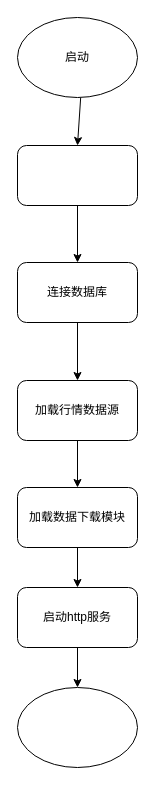
This 155x785 diagram has some shape labels left out. Here are the shapes that lost their labels. From the top down, the centre of each, then its label:
At point (77, 175): "加载配置文件".
At point (77, 727): "结束".
